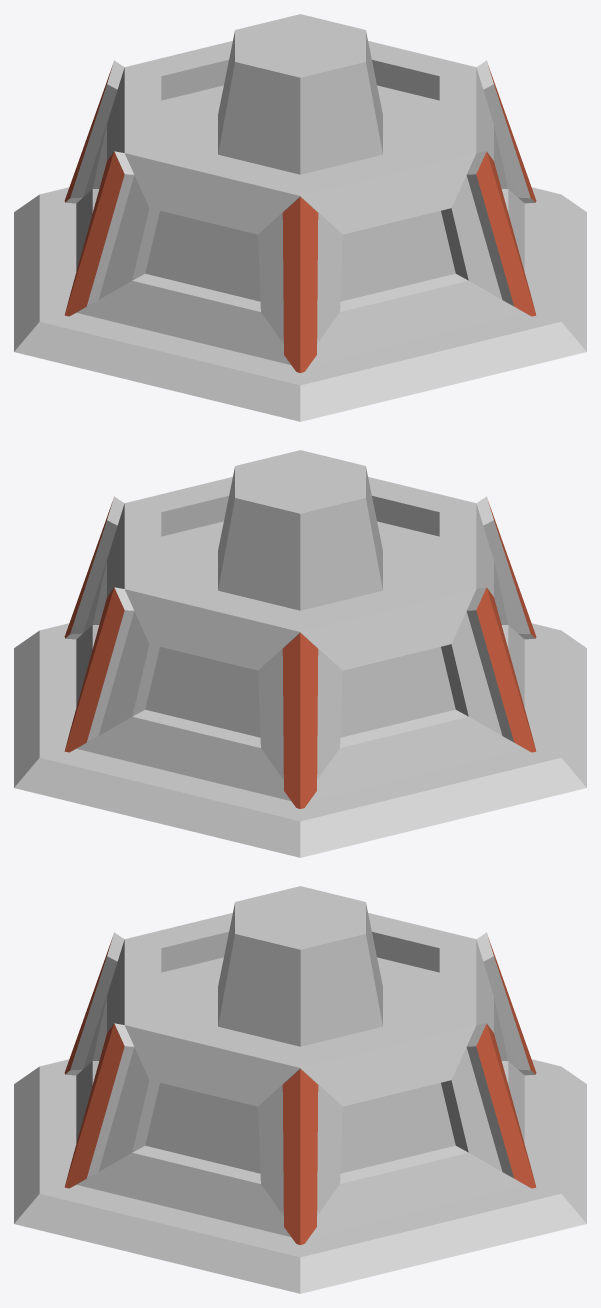
The model's file is body.fbx.
3 views of the same model, one above another, from view 1: azimuth 30°, elevation 25°; view 2: azimuth 150°, elevation 25°; view 3: azimuth 270°, elevation 25° (orthographic).
Visible parts, largest first — view 1: Body_01; view 2: Body_01; view 3: Body_01.
Part boxes in pixels (box(x1,y1,x2,y2)): Body_01: box(14, 14, 586, 421); Body_01: box(14, 450, 586, 857); Body_01: box(14, 886, 586, 1293).
Size of the model in its own units: 394 by 454 by 179.
